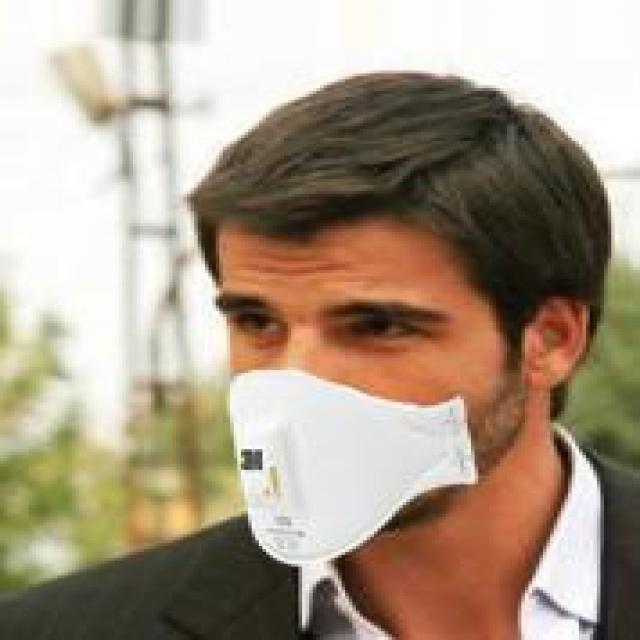mask: (126, 50, 622, 572)
